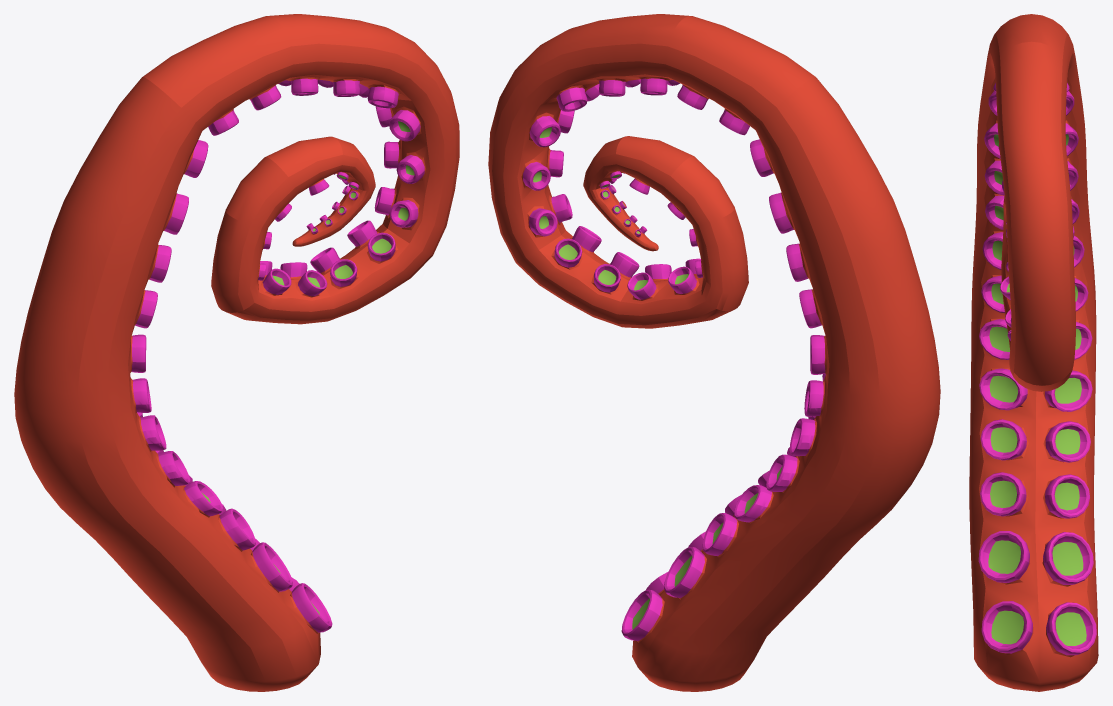
The model's file is ahtakol.fbx.
The picture shows the model from 3 angles, left to right: view 1: azimuth 30°, elevation 25°; view 2: azimuth 150°, elevation 25°; view 3: azimuth 270°, elevation 25°; orthographic projection. The views are drawn at different scales.
Visible parts, largest first — view 1: Vert; view 2: Vert; view 3: Vert.
Part boxes in pixels (box(x1,y1,x2,y2)): Vert: box(14, 14, 459, 691); Vert: box(488, 14, 940, 691); Vert: box(969, 14, 1098, 691).
Size of the model in its own units: 489 by 695 by 128.
